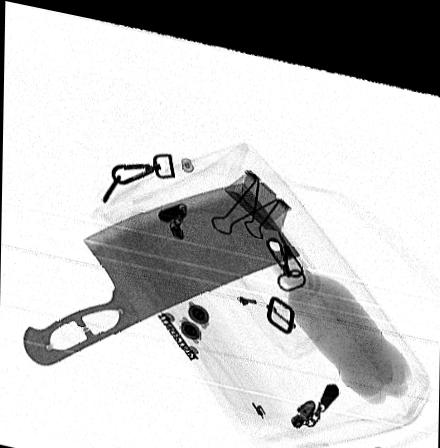Knife: (21, 169, 300, 362)
